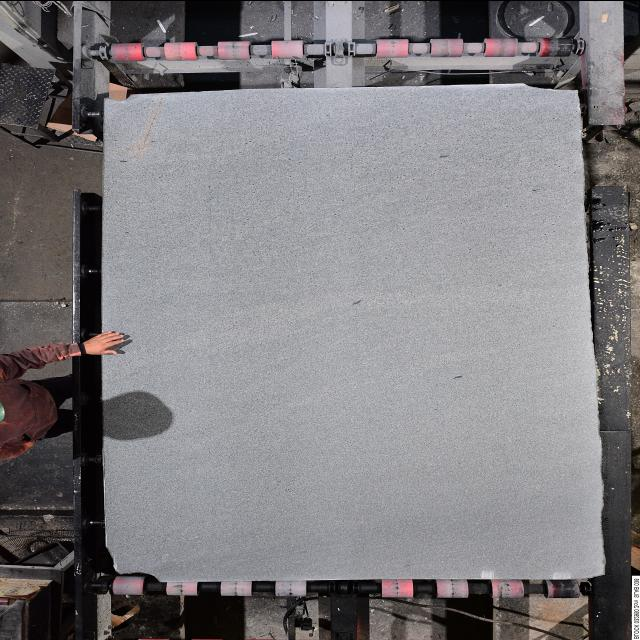chapa: (102, 84, 604, 580)
